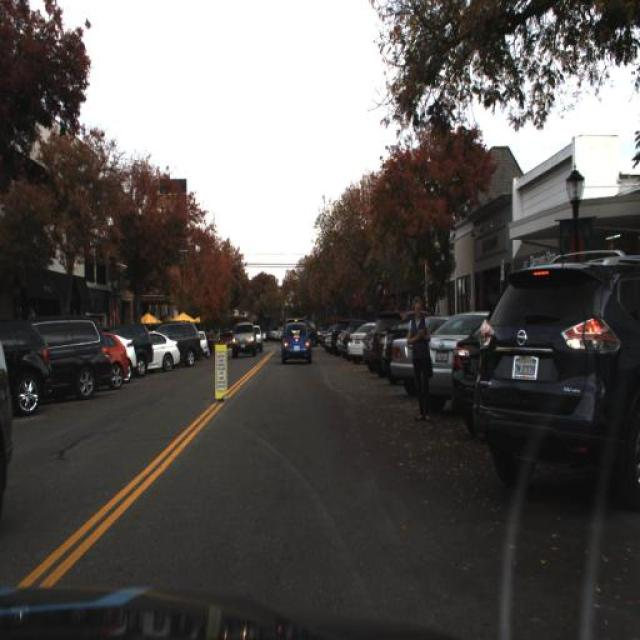car: (470, 243, 638, 516), (27, 312, 114, 402), (2, 313, 54, 425), (420, 311, 490, 385), (389, 313, 455, 385), (369, 304, 410, 380), (154, 318, 201, 372), (114, 324, 156, 377), (143, 328, 182, 380), (100, 331, 126, 392), (279, 322, 312, 362), (344, 313, 370, 362), (230, 318, 259, 358)
trafficLight: (405, 292, 434, 420)
